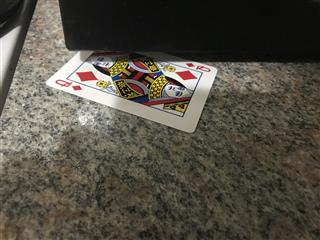QueenOfDiamonds: (44, 49, 217, 134)
